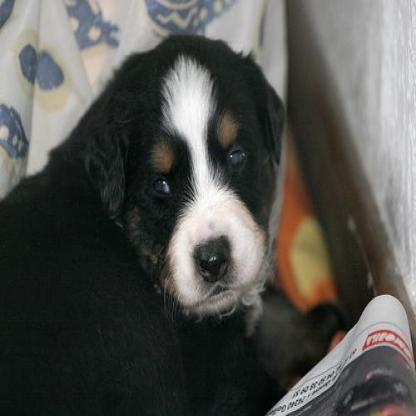Appenzeller: (0, 34, 283, 414)
